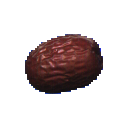gd: (16, 23, 118, 97)
